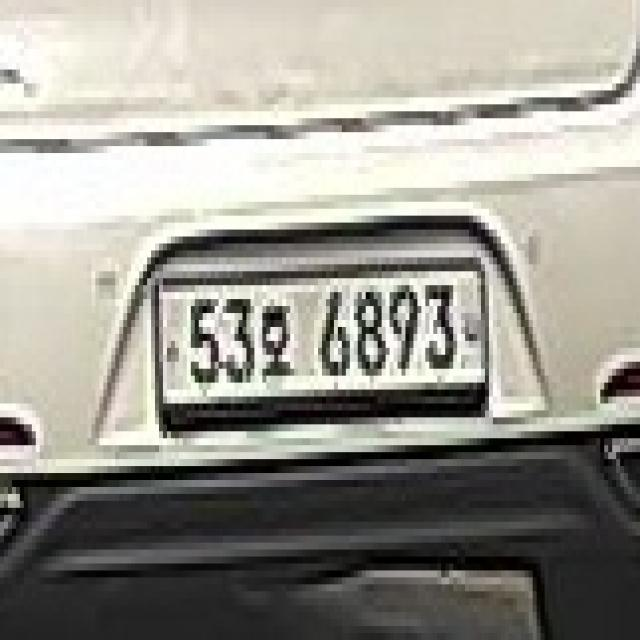3: (429, 271, 461, 376), (227, 285, 254, 390)
5: (186, 285, 218, 390)
6: (318, 278, 350, 383)
8: (350, 278, 386, 390)
9: (386, 258, 418, 382)
ho: (251, 285, 294, 390)
license_plate: (155, 251, 493, 438)
